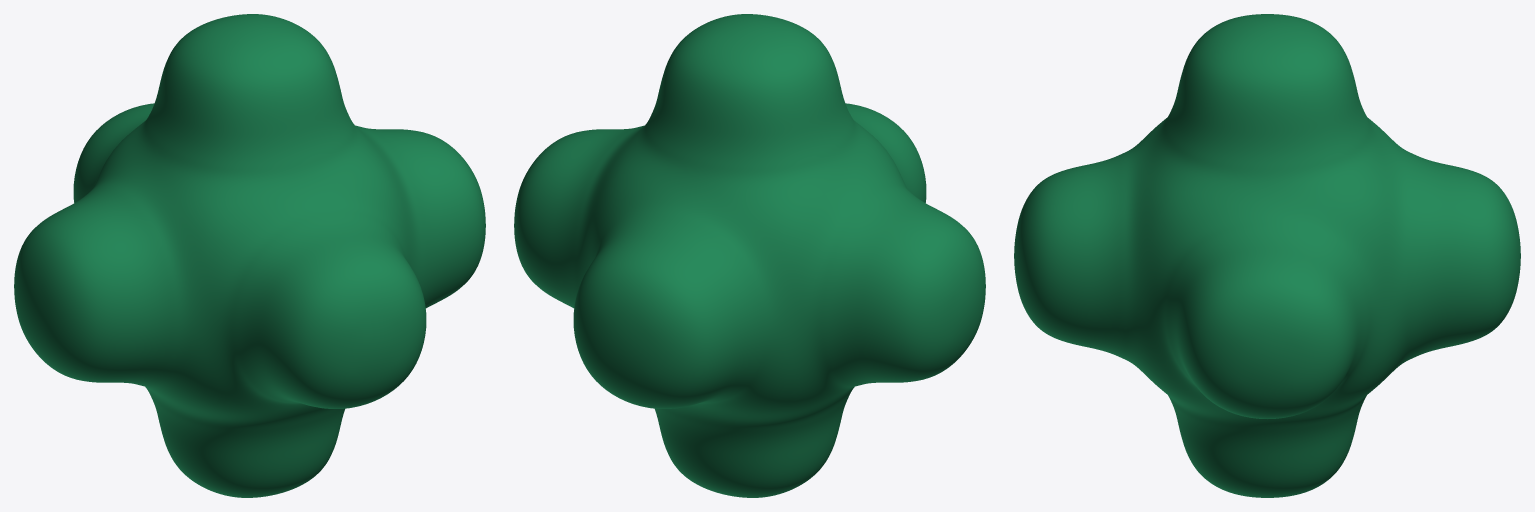
The model's file is Planet6.fbx.
3 views of the same model, side by side, from view 1: azimuth 30°, elevation 25°; view 2: azimuth 150°, elevation 25°; view 3: azimuth 270°, elevation 25° (orthographic).
Parts seen in each view (by area): view 1: Planet6; view 2: Planet6; view 3: Planet6.
Part boxes in pixels (bbox=[...]): Planet6: bbox=[14, 14, 485, 497]; Planet6: bbox=[514, 14, 985, 497]; Planet6: bbox=[1014, 14, 1520, 497].
Bounding box in the file's own units: 2842 × 2842 × 2842.
